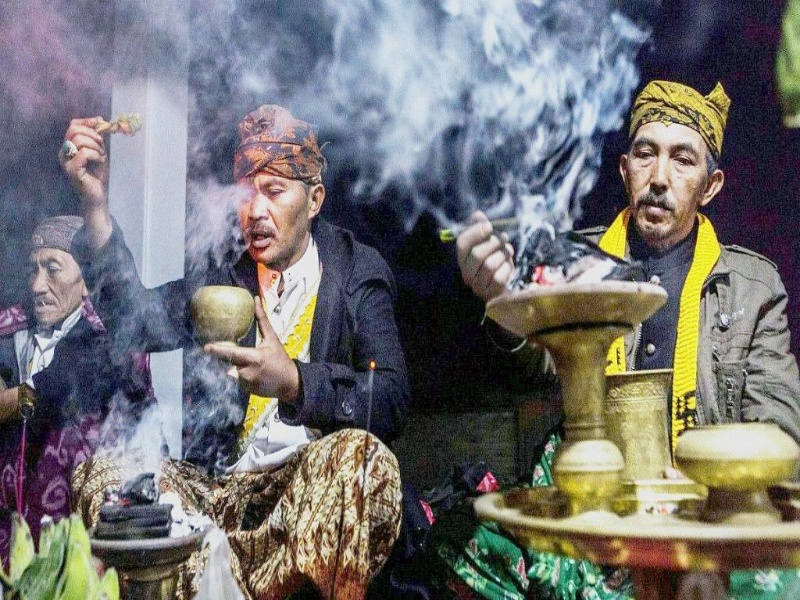smoke: (191, 1, 571, 222)
